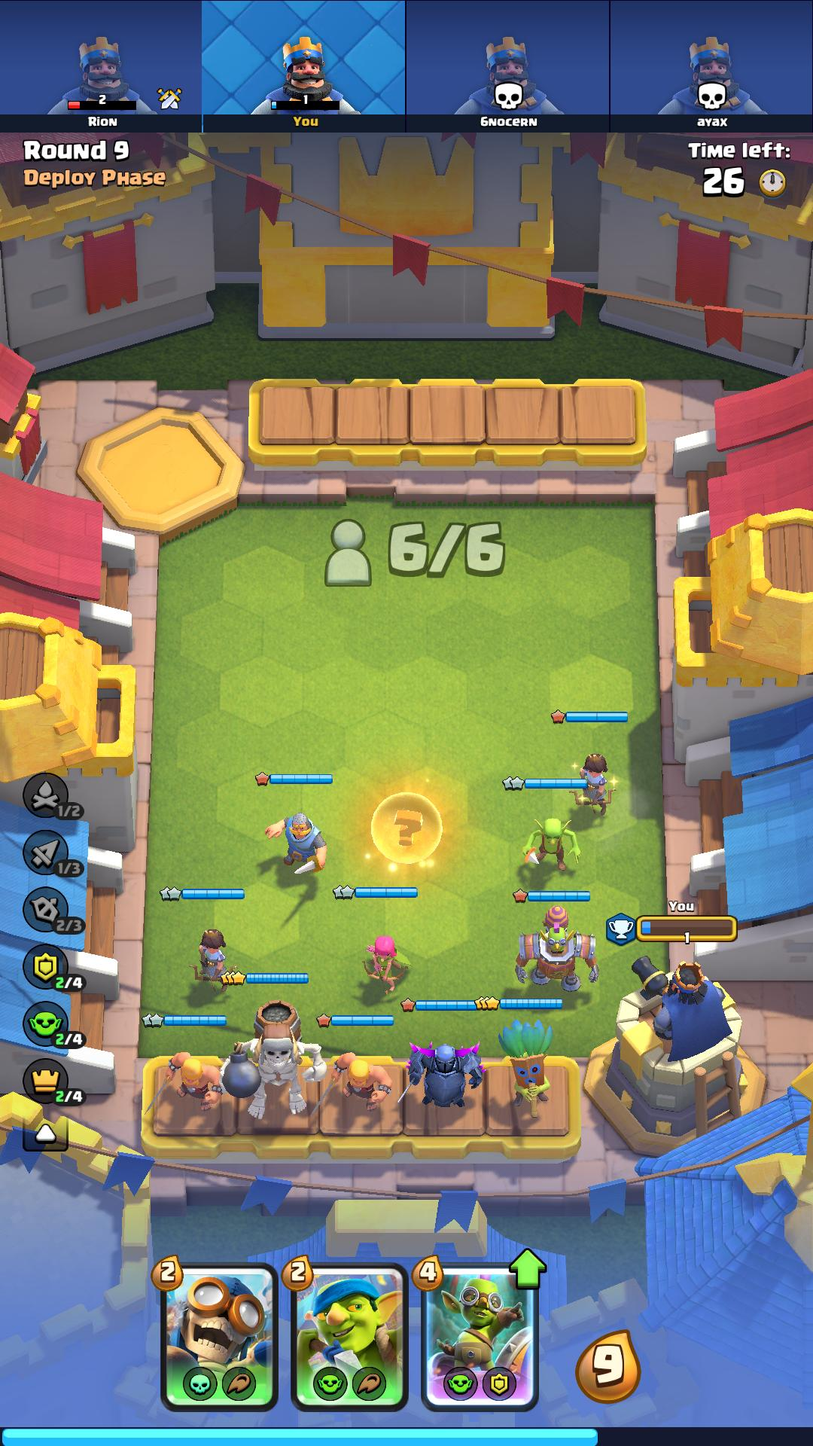archer: (341, 924, 418, 990)
barbarian: (320, 1041, 399, 1109), (146, 1046, 224, 1112)
dart: (490, 1017, 564, 1122)
giant: (220, 998, 331, 1121)
hand-bomber: (163, 1265, 276, 1410)
hand-machine: (422, 1264, 537, 1409)
hand-spear: (293, 1264, 403, 1409)
knight: (262, 807, 331, 878)
machine: (502, 902, 610, 997)
orb: (364, 788, 449, 870)
pekka: (401, 1038, 490, 1111)
princess: (181, 919, 241, 988), (569, 748, 621, 813)
upgrade: (507, 1246, 547, 1288)
